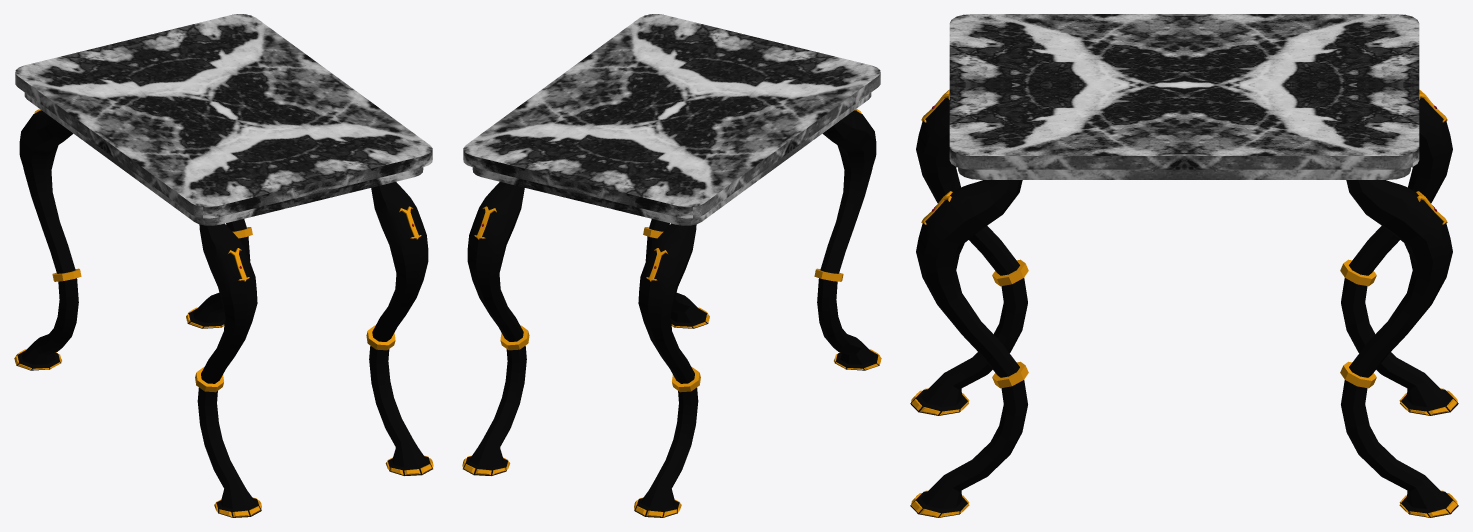
The model's file is Royal Table.fbx.
3 views of the same model, side by side, from view 1: azimuth 30°, elevation 25°; view 2: azimuth 150°, elevation 25°; view 3: azimuth 270°, elevation 25° (orthographic). The views are drawn at different scales.
Visible parts, largest first — view 1: Candle Table.002; view 2: Candle Table.002; view 3: Candle Table.002.
Part boxes in pixels (left/top/right/bottom): Candle Table.002: left=14, top=14, right=433, bottom=517; Candle Table.002: left=462, top=14, right=881, bottom=517; Candle Table.002: left=910, top=14, right=1458, bottom=517.
Bounding box in the file's own units: 44.58 × 54.14 × 72.81.
